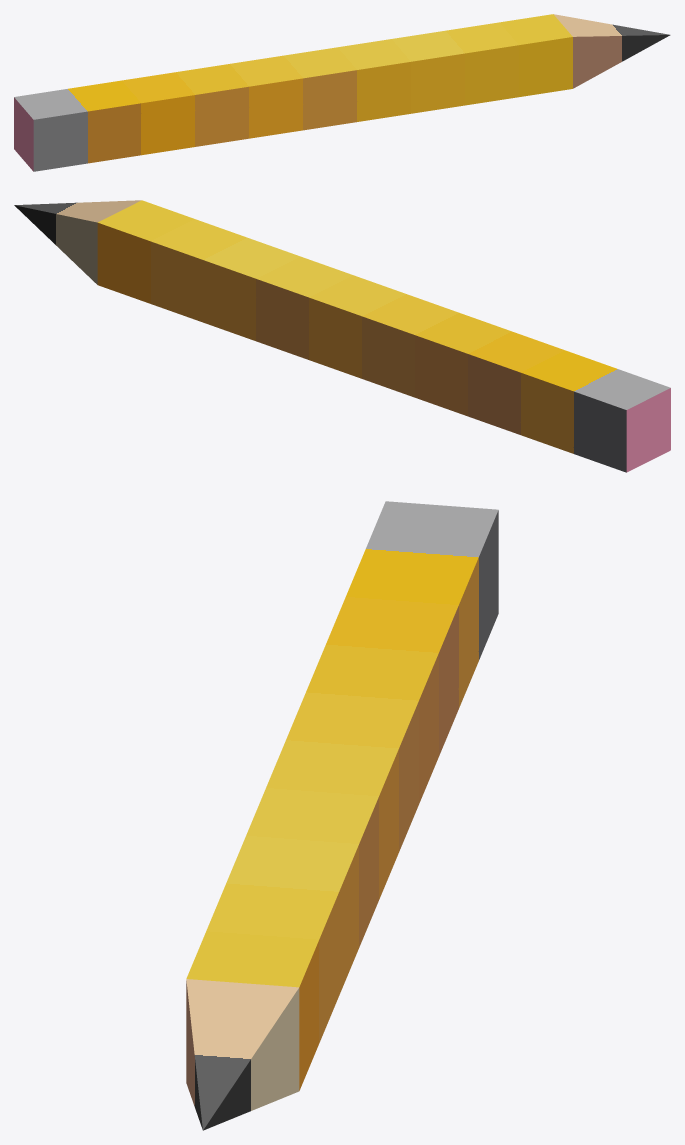
Rendered from pencil.fbx.
3 views of the same model, one above another, from view 1: azimuth 30°, elevation 25°; view 2: azimuth 150°, elevation 25°; view 3: azimuth 270°, elevation 25° (orthographic). The views are drawn at different scales.
Parts seen in each view (by area): view 1: pencil; view 2: pencil; view 3: pencil.
Part boxes in pixels (left/top/right/bottom): pencil: left=14, top=14, right=670, bottom=171; pencil: left=14, top=200, right=670, bottom=472; pencil: left=186, top=501, right=498, bottom=1130.
Size of the model in its own units: 59.52 by 5 by 13.61.
